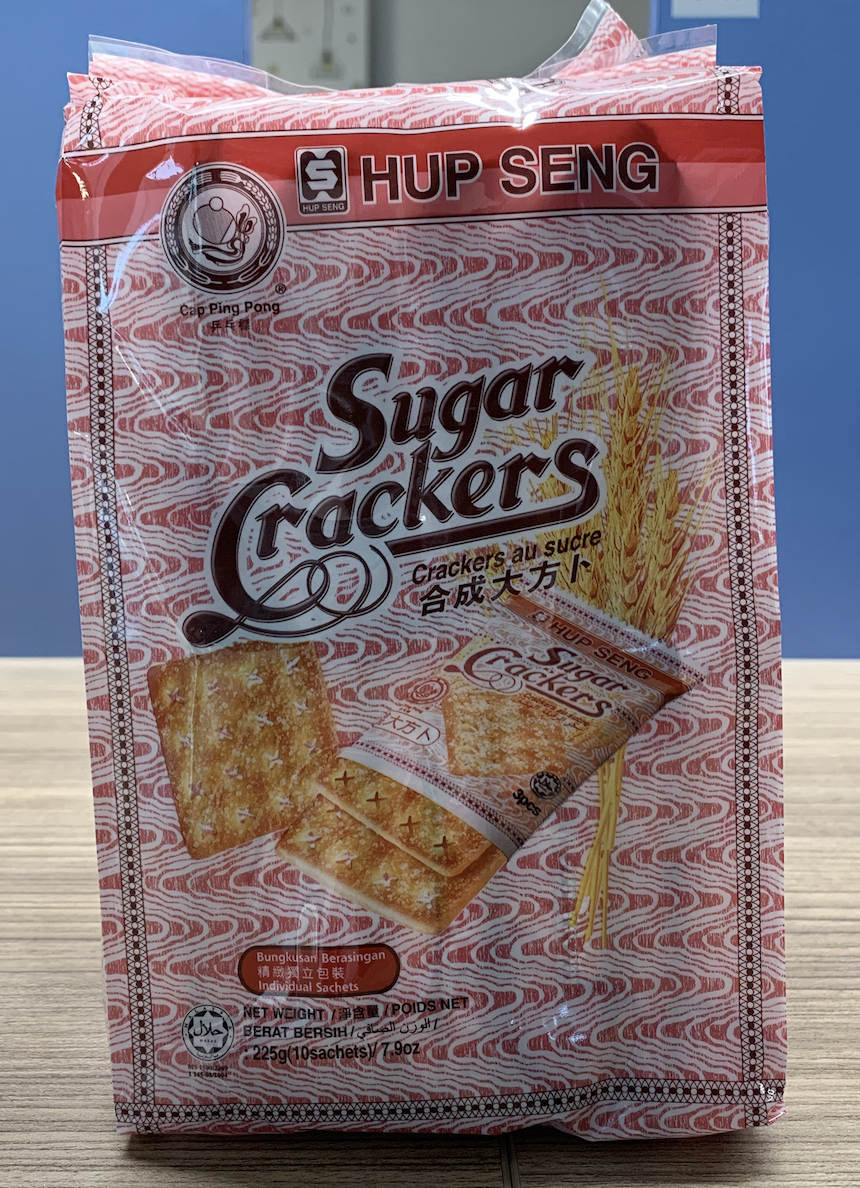crackers_150g: (138, 119, 736, 1092)
